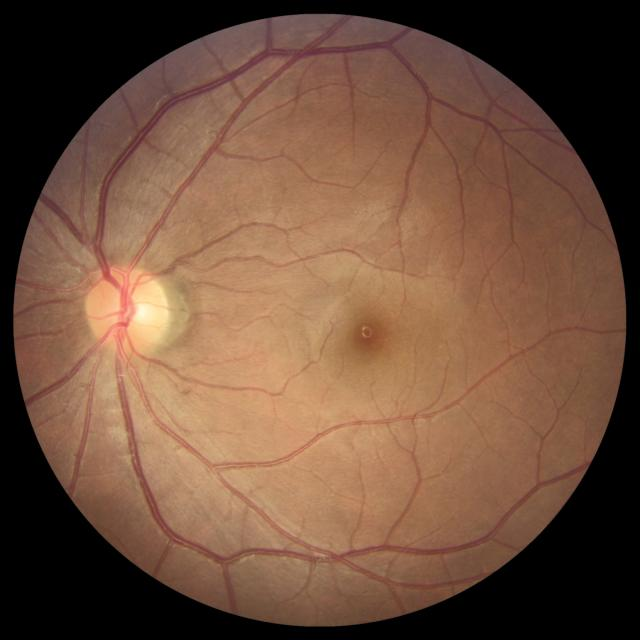OC: (111, 292, 152, 332)
OD: (86, 266, 172, 358)
